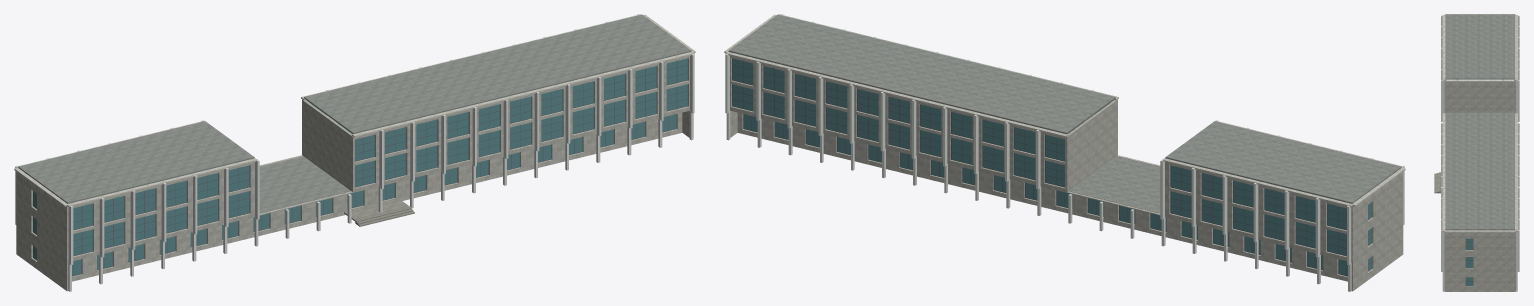
3 views of the same model, side by side, from view 1: azimuth 30°, elevation 25°; view 2: azimuth 150°, elevation 25°; view 3: azimuth 270°, elevation 25° (orthographic). The views are drawn at different scales.
Parts seen in each view (by area): view 1: newMaritime__roof, newMaritime__stone, newMaritime__glass, newMaritime__vertical-fin, newMaritime__frame, newMaritime__trim, newMaritime__ground-column, newMaritime__threshold-main, newMaritime__stair-main; view 2: newMaritime__roof, newMaritime__stone, newMaritime__glass, newMaritime__vertical-fin, newMaritime__frame, newMaritime__trim, newMaritime__ground-column; view 3: newMaritime__roof, newMaritime__stone, newMaritime__trim, newMaritime__vertical-fin, newMaritime__glass, newMaritime__stair-main, newMaritime__frame, newMaritime__ground-column.
Part boxes in pixels (x1,y1,x2,y2): newMaritime__roof: [18, 14, 691, 213]; newMaritime__stone: [16, 56, 693, 291]; newMaritime__glass: [33, 58, 687, 275]; newMaritime__vertical-fin: [15, 14, 694, 264]; newMaritime__frame: [33, 58, 688, 276]; newMaritime__trim: [14, 14, 695, 206]; newMaritime__ground-column: [68, 111, 693, 291]; newMaritime__threshold-main: [344, 199, 409, 221]; newMaritime__stair-main: [355, 207, 414, 226]; newMaritime__roof: [728, 14, 1401, 213]; newMaritime__stone: [730, 56, 1403, 291]; newMaritime__glass: [732, 58, 1371, 275]; newMaritime__vertical-fin: [725, 14, 1404, 264]; newMaritime__frame: [732, 58, 1371, 276]; newMaritime__trim: [724, 14, 1405, 206]; newMaritime__ground-column: [726, 111, 1351, 291]; newMaritime__roof: [1445, 14, 1514, 230]; newMaritime__stone: [1444, 79, 1515, 291]; newMaritime__trim: [1442, 14, 1517, 232]; newMaritime__vertical-fin: [1441, 15, 1519, 271]; newMaritime__glass: [1466, 238, 1472, 285]; newMaritime__stair-main: [1434, 172, 1440, 193]; newMaritime__frame: [1465, 239, 1473, 286]; newMaritime__ground-column: [1442, 271, 1517, 291].
Bounding box in the file's own units: 91.78 × 12.21 × 15.19.
Materials: 7 (4 with a texture image).
